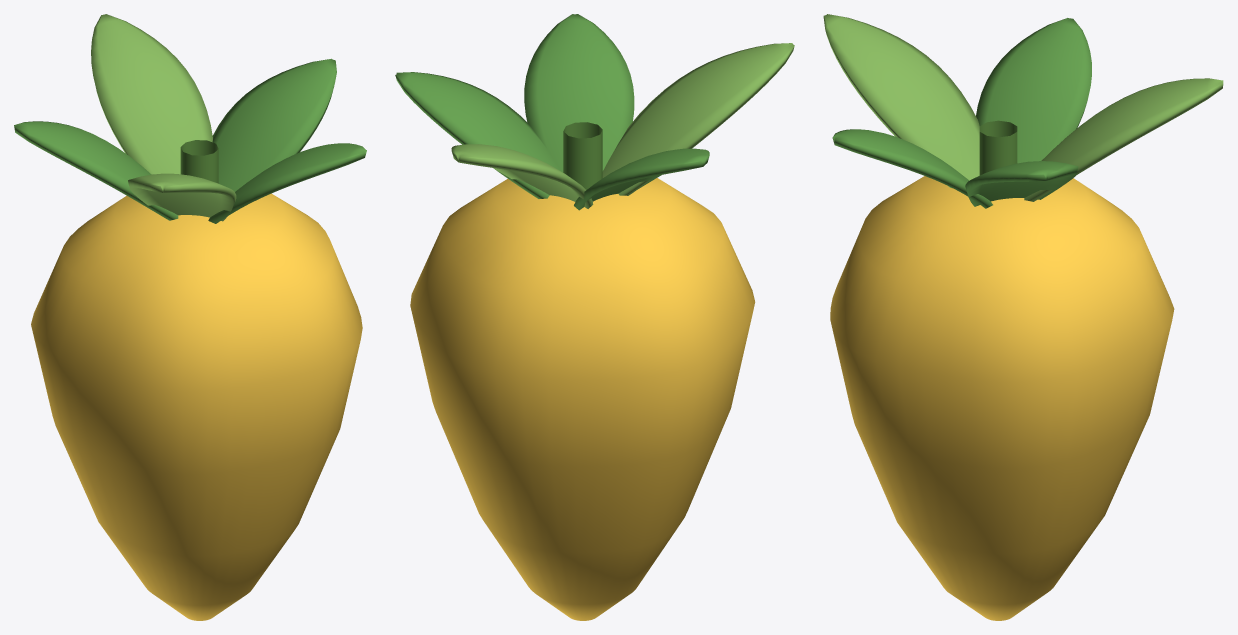
Rendered from golden_carrot.glb.
3 views of the same model, side by side, from view 1: azimuth 30°, elevation 25°; view 2: azimuth 150°, elevation 25°; view 3: azimuth 270°, elevation 25° (orthographic). The views are drawn at different scales.
Parts seen in each view (by area): view 1: Golden carrot | tapered root.001, Golden carrot | crown leaf.007, Golden carrot | crown leaf.005, Golden carrot | crown leaf.006, Golden carrot | crown leaf.009, Golden carrot | crown leaf.008, Golden carrot | crown stem.001; view 2: Golden carrot | tapered root.001, Golden carrot | crown leaf.009, Golden carrot | crown leaf.008, Golden carrot | crown leaf.005, Golden carrot | crown leaf.007, Golden carrot | crown leaf.006, Golden carrot | crown stem.001; view 3: Golden carrot | tapered root.001, Golden carrot | crown leaf.008, Golden carrot | crown leaf.006, Golden carrot | crown leaf.007, Golden carrot | crown leaf.009, Golden carrot | crown leaf.005, Golden carrot | crown stem.001.
Boxes of the visible parts, x1,y1,x2,y2 form: Golden carrot | tapered root.001: (31,193,362,620); Golden carrot | crown leaf.007: (91,14,212,174); Golden carrot | crown leaf.005: (212,58,336,191); Golden carrot | crown leaf.006: (14,121,178,220); Golden carrot | crown leaf.009: (208,143,366,223); Golden carrot | crown leaf.008: (128,173,236,221); Golden carrot | crown stem.001: (180,140,218,183); Golden carrot | tapered root.001: (410,178,755,620); Golden carrot | crown leaf.009: (524,14,634,172); Golden carrot | crown leaf.008: (602,43,794,195); Golden carrot | crown leaf.005: (395,72,561,198); Golden carrot | crown leaf.007: (451,144,593,208); Golden carrot | crown leaf.006: (574,148,709,210); Golden carrot | crown stem.001: (563,122,602,189); Golden carrot | tapered root.001: (830,176,1174,620); Golden carrot | crown leaf.008: (823,14,979,188); Golden carrot | crown leaf.006: (976,18,1091,163); Golden carrot | crown leaf.007: (1024,78,1223,201); Golden carrot | crown leaf.009: (832,129,992,208); Golden carrot | crown leaf.005: (965,161,1078,206); Golden carrot | crown stem.001: (979,120,1017,175).
Bounding box in the file's own units: 0.8429 × 1.35 × 0.9075.
